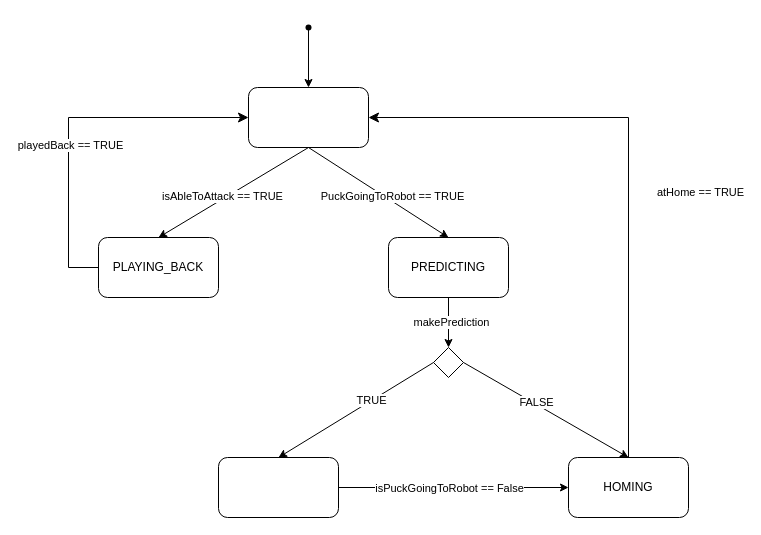
This 761x535 diagram has some shape labels left out. The box of each missing label's shape, as (x1, y1, x2, y2) in pixels:
DEFENDING: (218, 456, 338, 518)
IDLE: (248, 86, 368, 148)
